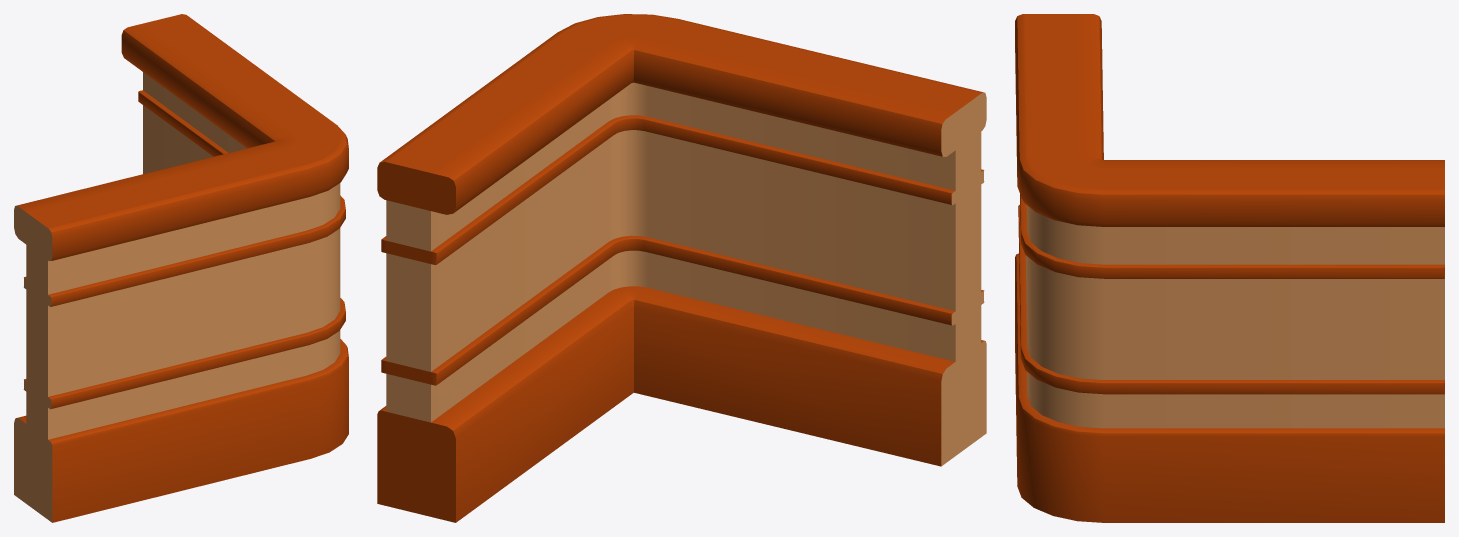
The model's file is New_CornerWalls001.fbx.
3 views of the same model, side by side, from view 1: azimuth 30°, elevation 25°; view 2: azimuth 150°, elevation 25°; view 3: azimuth 270°, elevation 25° (orthographic). The views are drawn at different scales.
Parts seen in each view (by area): view 1: Wall005.010; view 2: Wall005.010; view 3: Wall005.010.
Part boxes in pixels (bbox=[...]): Wall005.010: bbox=[14, 14, 348, 522]; Wall005.010: bbox=[377, 14, 986, 522]; Wall005.010: bbox=[1015, 14, 1444, 522].
Bounding box in the file's own units: 312 × 266 × 315.
1 material, 1 textured.
